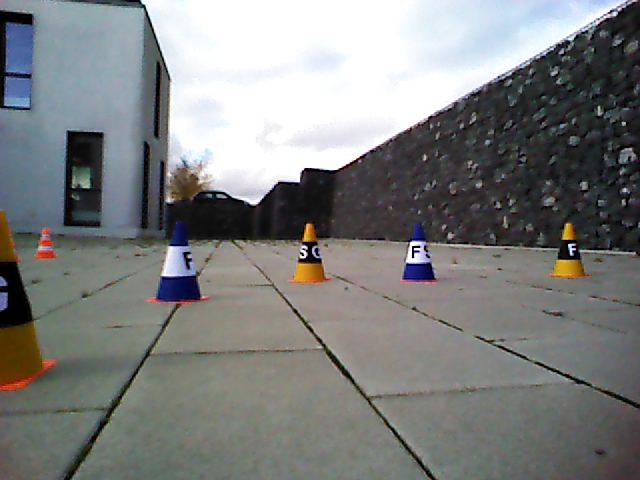bluecone: (157, 220, 203, 300), (405, 223, 435, 280)
yellowcone: (1, 209, 40, 391), (296, 222, 327, 280), (553, 222, 585, 276)
